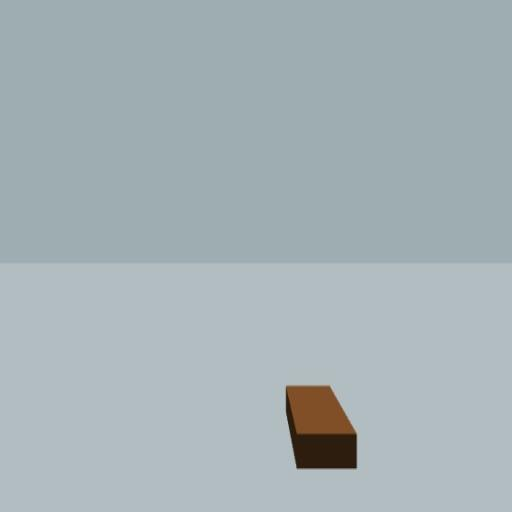debris_container: (284, 385, 360, 471)
